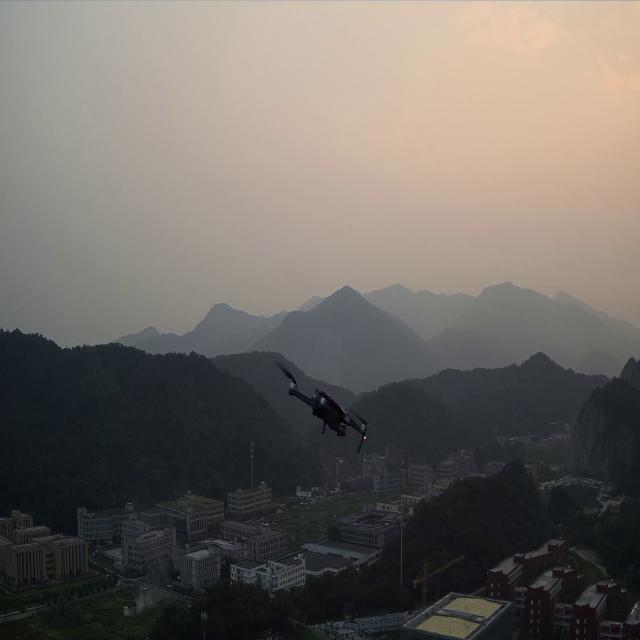UAV: (272, 358, 386, 457)
